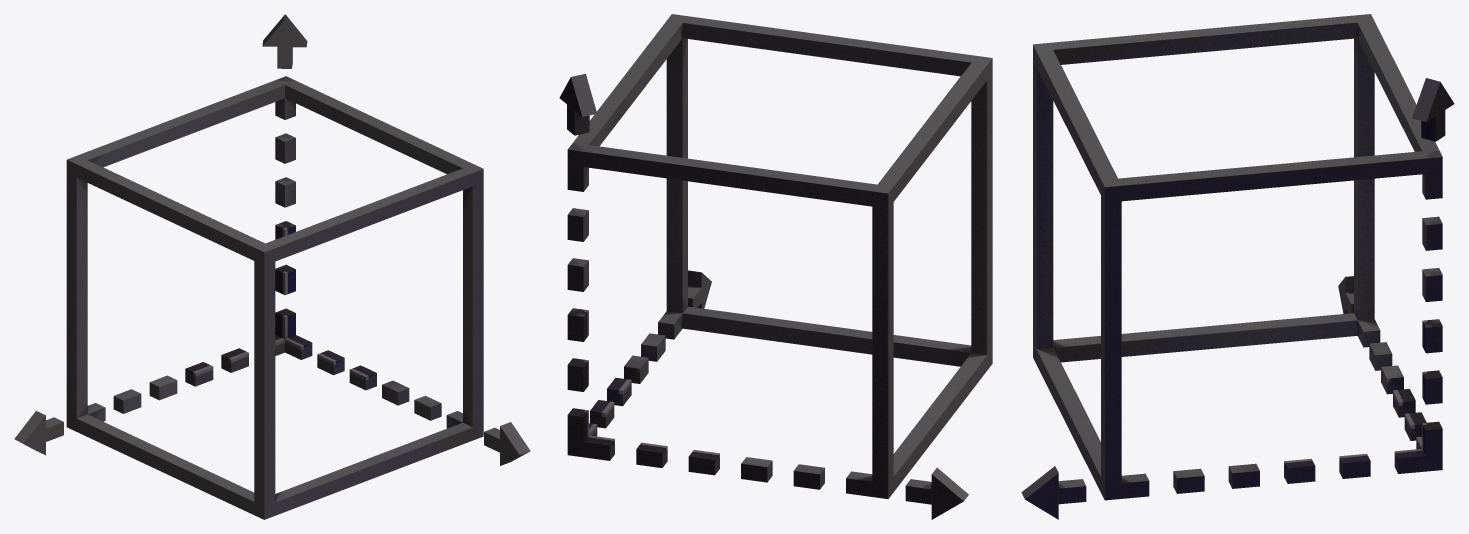
The model's file is threed_scale.glb.
The picture shows the model from 3 angles, left to right: view 1: azimuth 30°, elevation 25°; view 2: azimuth 150°, elevation 25°; view 3: azimuth 270°, elevation 25°; orthographic projection. The views are drawn at different scales.
Parts seen in each view (by area): view 1: threed_scale; view 2: threed_scale; view 3: threed_scale.
Boxes of the visible parts, x1,y1,x2,y2 form: threed_scale: (14, 14, 530, 519); threed_scale: (559, 14, 992, 519); threed_scale: (1021, 14, 1454, 519).
Bounding box in the file's own units: 2.35 × 2.06 × 2.01.
1 material, 1 textured.
